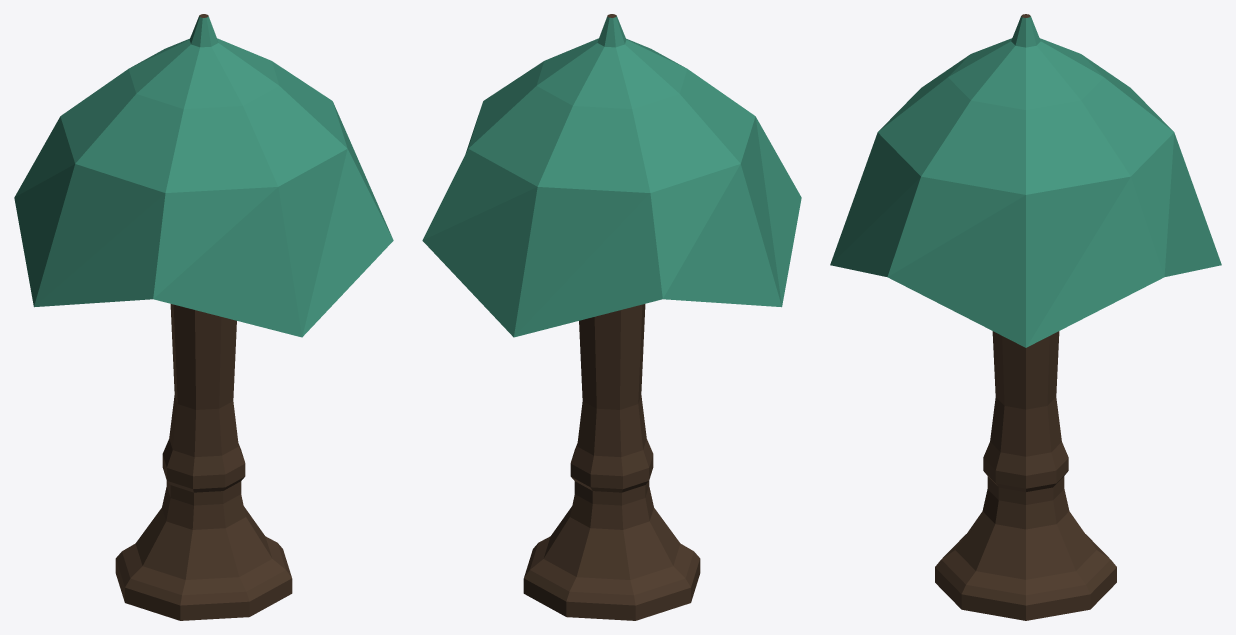
File: Victorian Desk Lamp.FBX
3 views of the same model, side by side, from view 1: azimuth 30°, elevation 25°; view 2: azimuth 150°, elevation 25°; view 3: azimuth 270°, elevation 25° (orthographic).
Parts seen in each view (by area): view 1: Victorian Desk Lamp; view 2: Victorian Desk Lamp; view 3: Victorian Desk Lamp.
Boxes of the visible parts, left/top/right/bottom form: Victorian Desk Lamp: left=14, top=14, right=393, bottom=620; Victorian Desk Lamp: left=422, top=14, right=801, bottom=620; Victorian Desk Lamp: left=830, top=14, right=1221, bottom=620.
Size of the model in its own units: 1.22 by 1.95 by 1.22.
